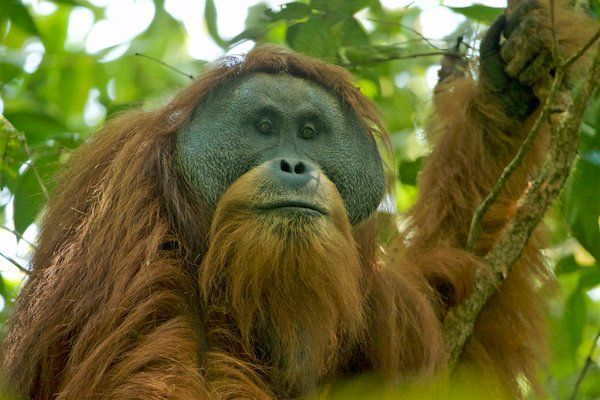Orangutan: (84, 51, 434, 380)
